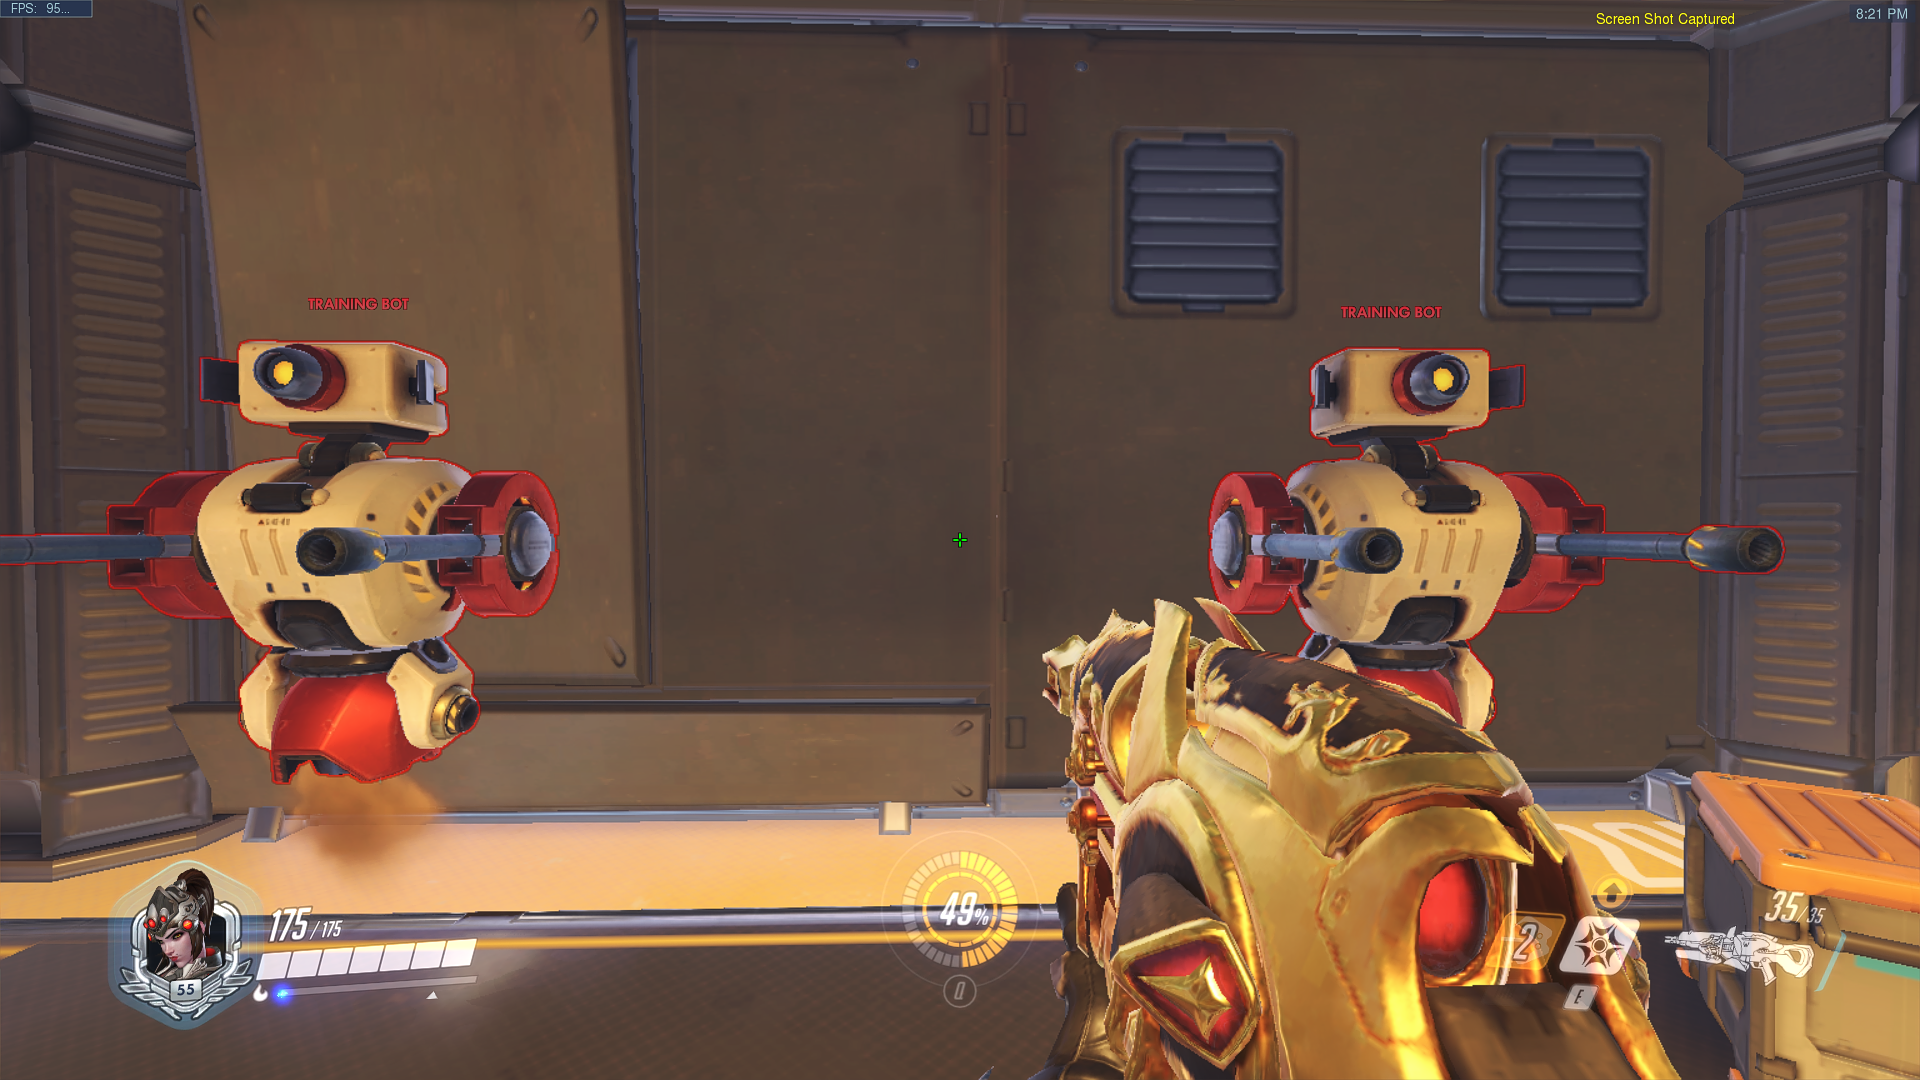head: (239, 342, 451, 439), (1317, 354, 1489, 432)
